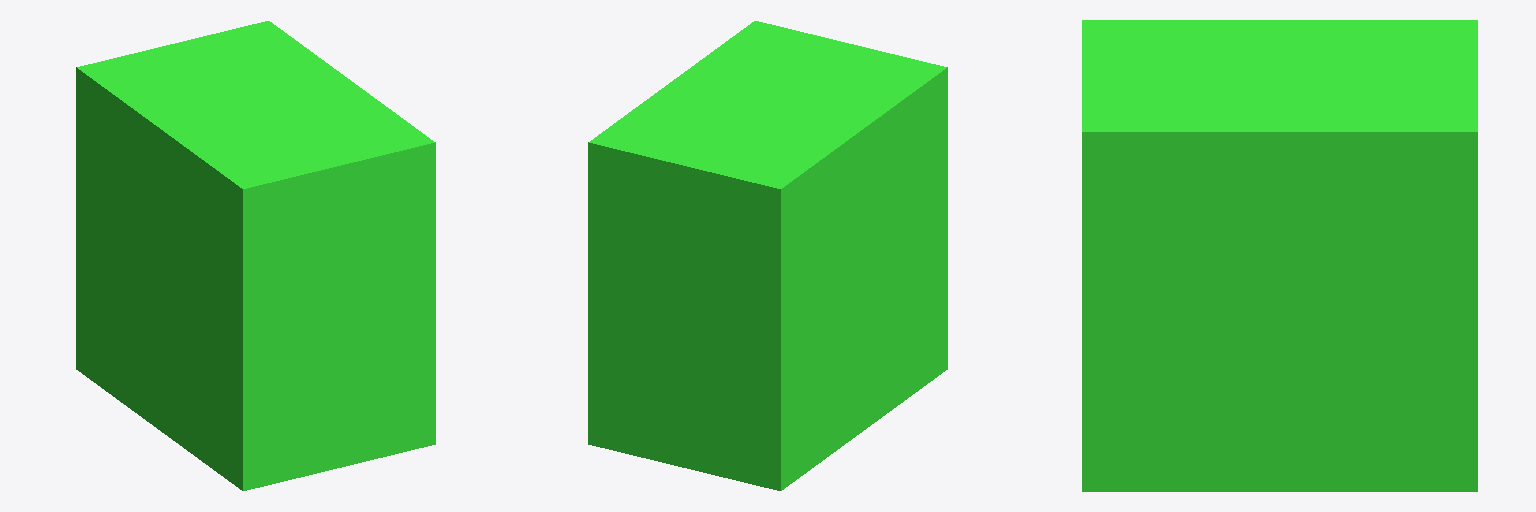
The robot description file, URDF, robot "CubeLifeSize_v2_60_40":
<robot name="CubeLifeSize_v2_60_40">
	<link name="object">
		<visual>
			<origin rpy="0.0 0.0 0.0" xyz="0.0 0.0 -0.6" />
			<geometry>
				<mesh filename="CubeLifeSize_v2_60_40/CubeLifeSize_v2_60_40.obj" scale="0.02 0.02 0.02" />
			</geometry>
			<material name="texture">
				<color rgba="0.3 1.0 0.3 1.0" />
			</material>
		</visual>
		<collision>
			<origin rpy="0.0 0.0 0.0" xyz="0.0 0.0 -0.6" />
			<geometry>
				<mesh filename="CubeLifeSize_v2_60_40/CubeLifeSize_v2_60_40_vhacd.obj" scale="0.02 0.02 0.02" />
			</geometry>
		</collision>
		<inertial>
			<mass value="0.020" />
			<inertia ixx="1.0" ixy="0.0" ixz="0.0" iyy="1.0" iyz="0.0" izz="1.0" />
		</inertial>
	</link>
</robot>

--- Facts derived from the render (not from the file) ---
3 views of the same robot in one strip: view 1: azimuth 30°, elevation 25°; view 2: azimuth 150°, elevation 25°; view 3: azimuth 270°, elevation 25° (orthographic).
Model CubeLifeSize_v2_60_40 with 1 links and 0 joints (none), rooted at object, posed all joints at 0.
Visible links, largest first — view 1: object; view 2: object; view 3: object.
Boxes of the visible links, <box> form: object: <box>76,21,435,490</box>; object: <box>588,21,947,490</box>; object: <box>1082,20,1477,491</box>.
Size in the robot's own frame: 0.8 by 1.2 by 1.2 metres.
1 mesh visuals loaded from 1 distinct referenced files (1 OBJ).